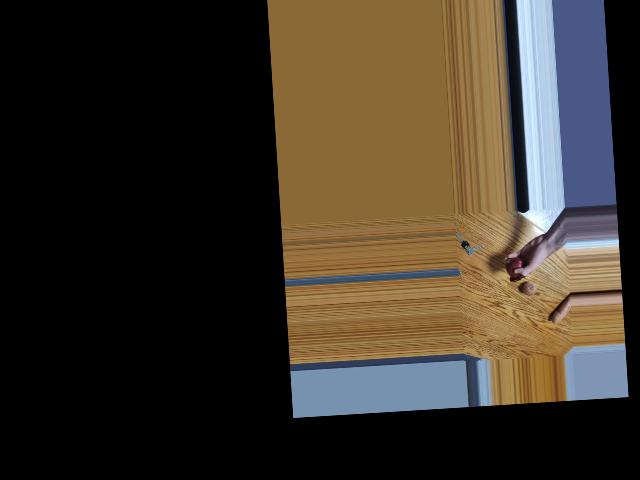onion: (521, 275, 540, 297)
